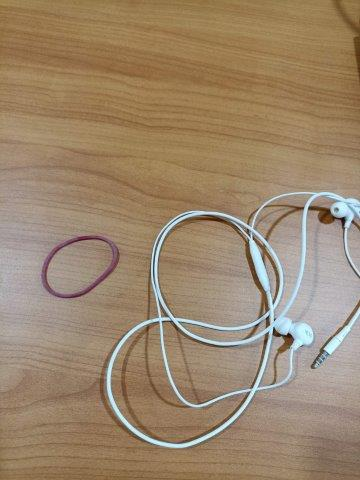karet: (41, 235, 119, 299)
